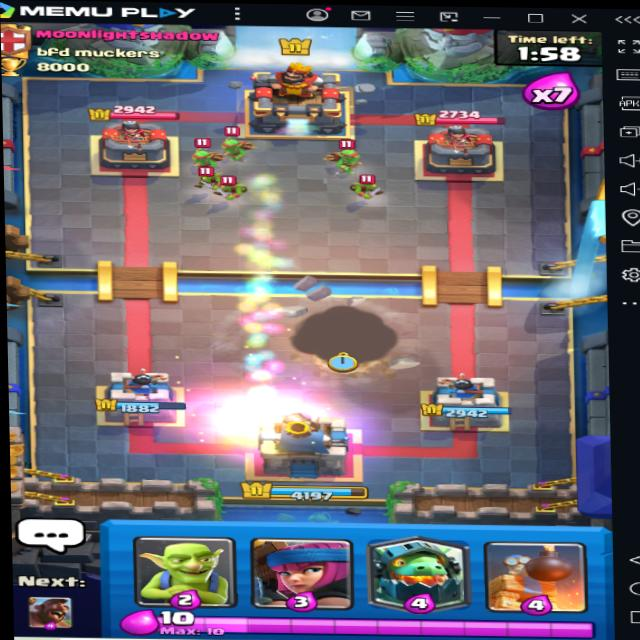goblin: (346, 176, 388, 199), (217, 174, 252, 200), (190, 168, 226, 191)
spear-goblin: (323, 141, 365, 170), (221, 134, 263, 160), (179, 142, 220, 168)
